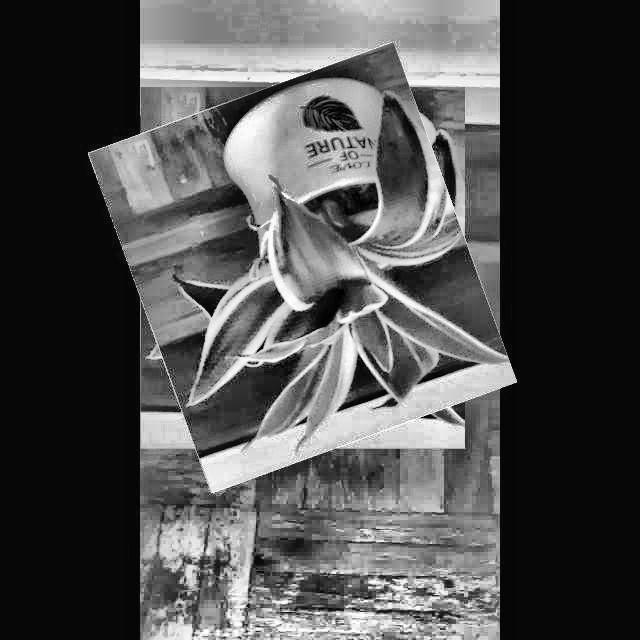plants: (114, 64, 491, 471)
